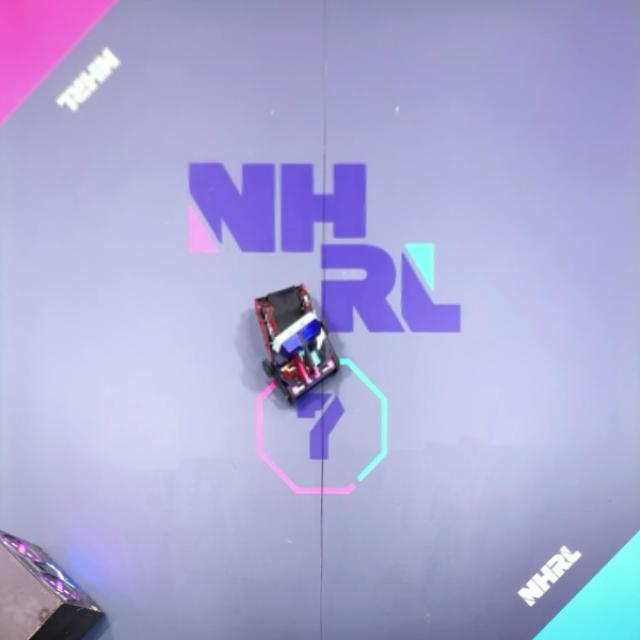housebot: (0, 530, 108, 640)
robot: (262, 312, 340, 404), (254, 284, 316, 349)
